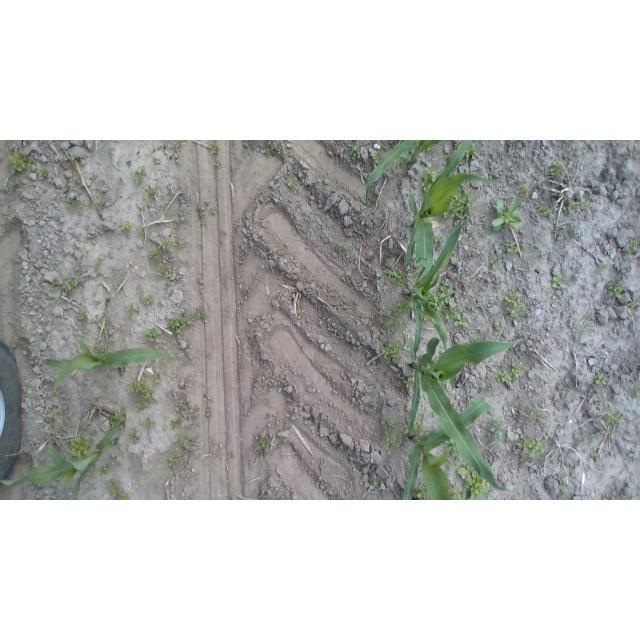Maize: (406, 338, 514, 493), (403, 140, 493, 282), (0, 411, 120, 500), (405, 204, 472, 356), (401, 395, 491, 500), (45, 339, 175, 396), (363, 141, 441, 210)
Weeds: (457, 464, 489, 500), (492, 197, 523, 231), (427, 278, 453, 316), (443, 189, 476, 218), (129, 375, 156, 403), (7, 148, 33, 173), (517, 437, 548, 457), (441, 306, 469, 328), (69, 437, 93, 460), (505, 292, 525, 318), (421, 166, 440, 193), (382, 340, 402, 364), (383, 427, 404, 448), (383, 268, 406, 286), (395, 300, 409, 328), (448, 480, 467, 500), (149, 239, 168, 259), (551, 160, 568, 181), (377, 310, 396, 328), (167, 316, 185, 335), (488, 418, 503, 440), (412, 484, 432, 500), (404, 420, 424, 435), (156, 265, 171, 284), (132, 165, 146, 185), (186, 309, 203, 325), (445, 436, 460, 454), (536, 203, 555, 217), (61, 276, 75, 295), (264, 144, 284, 157), (605, 409, 621, 425), (142, 185, 157, 202), (609, 282, 624, 298), (145, 327, 160, 343), (109, 481, 121, 500), (496, 370, 513, 383), (466, 143, 479, 160), (197, 208, 208, 228), (552, 274, 566, 288), (119, 221, 133, 235), (67, 200, 82, 213), (398, 150, 410, 166), (168, 454, 182, 467), (593, 374, 607, 387), (507, 244, 520, 258), (564, 202, 579, 214), (259, 437, 270, 453), (559, 485, 572, 498), (449, 455, 461, 469), (512, 363, 523, 378), (48, 277, 59, 292), (189, 404, 199, 419), (110, 412, 119, 428), (520, 183, 531, 196), (99, 464, 110, 477), (427, 141, 441, 151), (170, 236, 182, 247), (352, 144, 360, 160), (137, 399, 148, 410), (145, 294, 156, 305), (599, 263, 614, 271), (209, 142, 219, 154), (126, 303, 134, 318), (97, 346, 109, 356), (143, 418, 155, 428), (171, 419, 182, 429), (176, 433, 187, 443), (38, 167, 49, 177), (368, 478, 378, 489), (427, 358, 438, 368), (423, 315, 433, 326), (373, 153, 384, 163), (288, 177, 298, 188), (180, 397, 189, 409), (135, 284, 144, 296), (130, 428, 139, 440), (382, 421, 397, 428), (491, 256, 499, 269), (403, 378, 413, 388), (174, 140, 184, 150), (386, 446, 396, 456), (582, 199, 591, 210), (85, 200, 93, 212), (407, 272, 419, 280), (62, 181, 71, 191), (78, 313, 87, 323), (434, 234, 443, 243), (154, 373, 162, 383), (634, 385, 640, 397), (97, 196, 105, 205), (215, 157, 221, 169), (116, 177, 124, 186), (621, 493, 631, 500), (611, 428, 618, 438), (10, 179, 20, 186), (495, 326, 503, 334), (586, 312, 594, 320), (137, 227, 145, 235), (524, 460, 533, 467), (586, 326, 595, 333), (299, 310, 306, 319), (96, 257, 103, 266), (440, 381, 446, 391), (591, 435, 599, 442), (530, 411, 538, 418), (628, 301, 636, 308), (627, 250, 634, 258), (455, 140, 462, 148), (376, 141, 384, 148), (591, 448, 597, 457), (470, 337, 479, 343), (122, 494, 131, 500), (539, 252, 549, 257), (581, 437, 588, 444), (58, 412, 65, 419), (188, 440, 196, 446), (506, 439, 514, 445), (345, 247, 353, 253), (45, 417, 53, 423), (633, 241, 638, 250), (388, 378, 393, 387), (282, 426, 291, 431), (431, 411, 438, 417), (82, 250, 89, 256), (70, 154, 77, 160), (112, 461, 121, 465), (136, 206, 142, 212), (204, 200, 211, 205), (429, 427, 435, 432), (174, 223, 179, 229), (121, 416, 126, 422), (92, 414, 97, 420), (77, 431, 84, 435), (211, 210, 218, 214), (30, 198, 35, 203), (420, 307, 425, 312), (120, 426, 125, 431), (96, 224, 101, 229), (88, 188, 92, 194), (556, 225, 562, 229), (478, 227, 482, 233), (419, 153, 423, 158), (208, 396, 212, 400), (255, 378, 259, 382), (138, 454, 143, 457), (122, 347, 127, 350), (277, 140, 284, 142), (163, 427, 167, 430), (127, 196, 131, 199), (558, 498, 563, 500), (574, 140, 579, 142)
